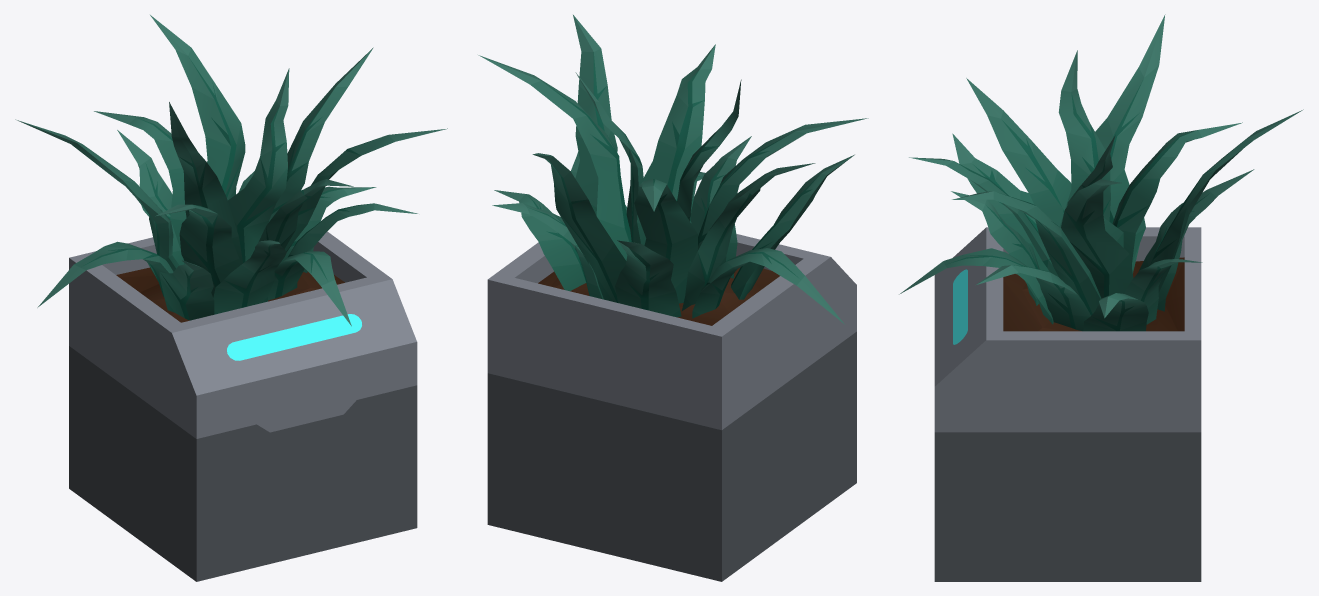
The model's file is SM_Props_Medical_04.fbx.
3 views of the same model, side by side, from view 1: azimuth 30°, elevation 25°; view 2: azimuth 150°, elevation 25°; view 3: azimuth 270°, elevation 25° (orthographic). The views are drawn at different scales.
Visible parts, largest first — view 1: SM_Props_Medical_04; view 2: SM_Props_Medical_04; view 3: SM_Props_Medical_04.
Part boxes in pixels (<box>): SM_Props_Medical_04: <box>15,15,447,581</box>; SM_Props_Medical_04: <box>478,15,868,581</box>; SM_Props_Medical_04: <box>899,14,1303,581</box>.
Bounding box in the file's own units: 0.7748 × 0.9109 × 0.7612.
